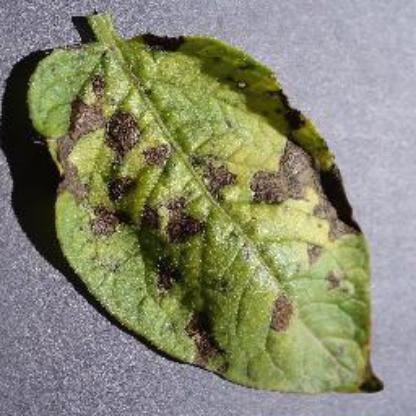Early-Blight: (21, 2, 416, 398)
